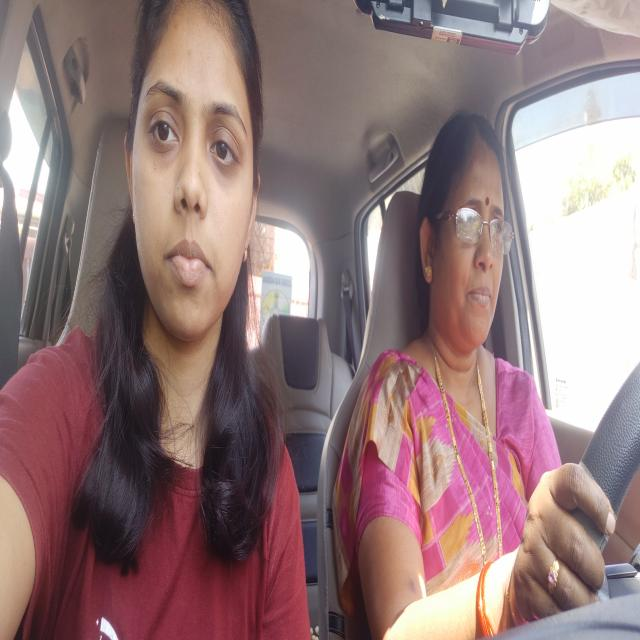person: (124, 0, 268, 345), (416, 98, 520, 373)
